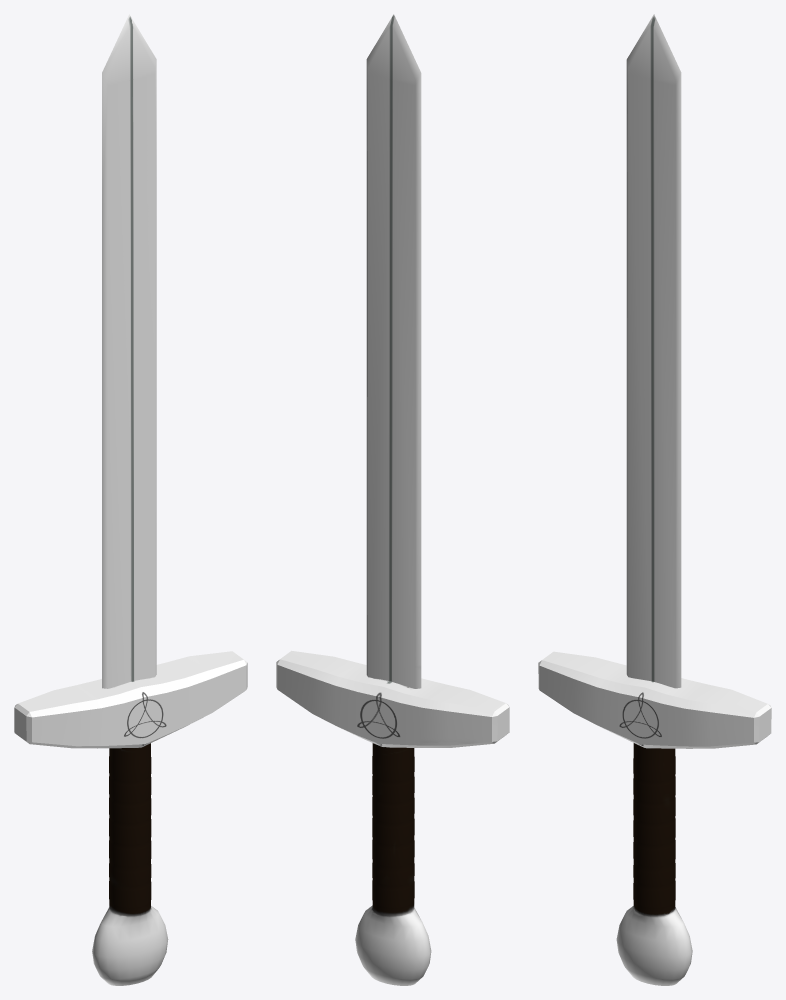
The model's file is Excalibur.fbx.
The picture shows the model from 3 angles, left to right: view 1: azimuth 30°, elevation 25°; view 2: azimuth 150°, elevation 25°; view 3: azimuth 330°, elevation 25°; orthographic projection.
Visible parts, largest first — view 1: excalibur; view 2: excalibur; view 3: excalibur.
Part boxes in pixels (left/top/right/bottom): excalibur: left=14, top=14, right=247, bottom=985; excalibur: left=276, top=14, right=509, bottom=985; excalibur: left=538, top=14, right=771, bottom=985.
Bounding box in the file's own units: 29.95 × 125 × 6.69.
